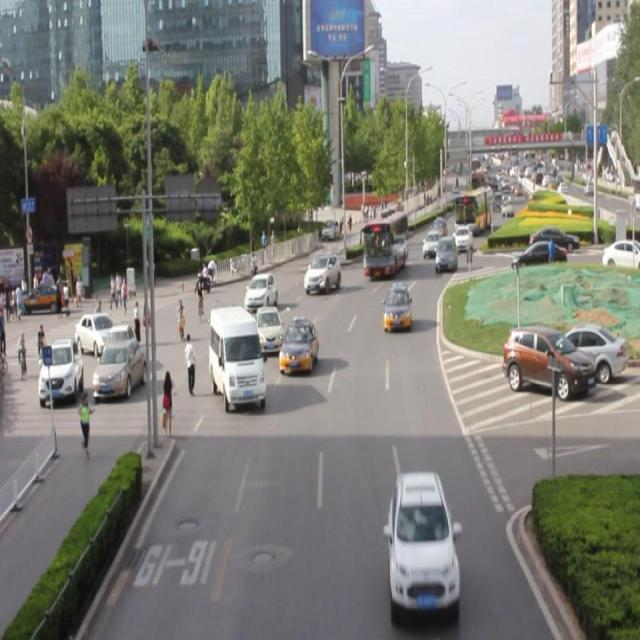car: (386, 472, 458, 612), (280, 319, 317, 372), (304, 254, 340, 292), (245, 271, 278, 312), (383, 284, 409, 332), (255, 304, 282, 348), (435, 236, 457, 274)
truck: (210, 307, 264, 397)
van: (361, 210, 406, 274)
